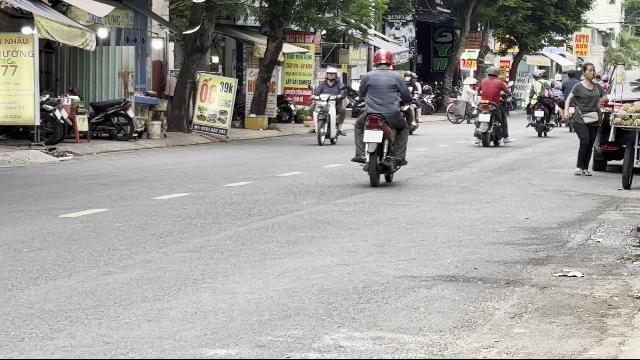helmet: (372, 50, 394, 68)
licenseplate: (363, 130, 382, 142)
motorcyclist: (349, 49, 413, 185)
